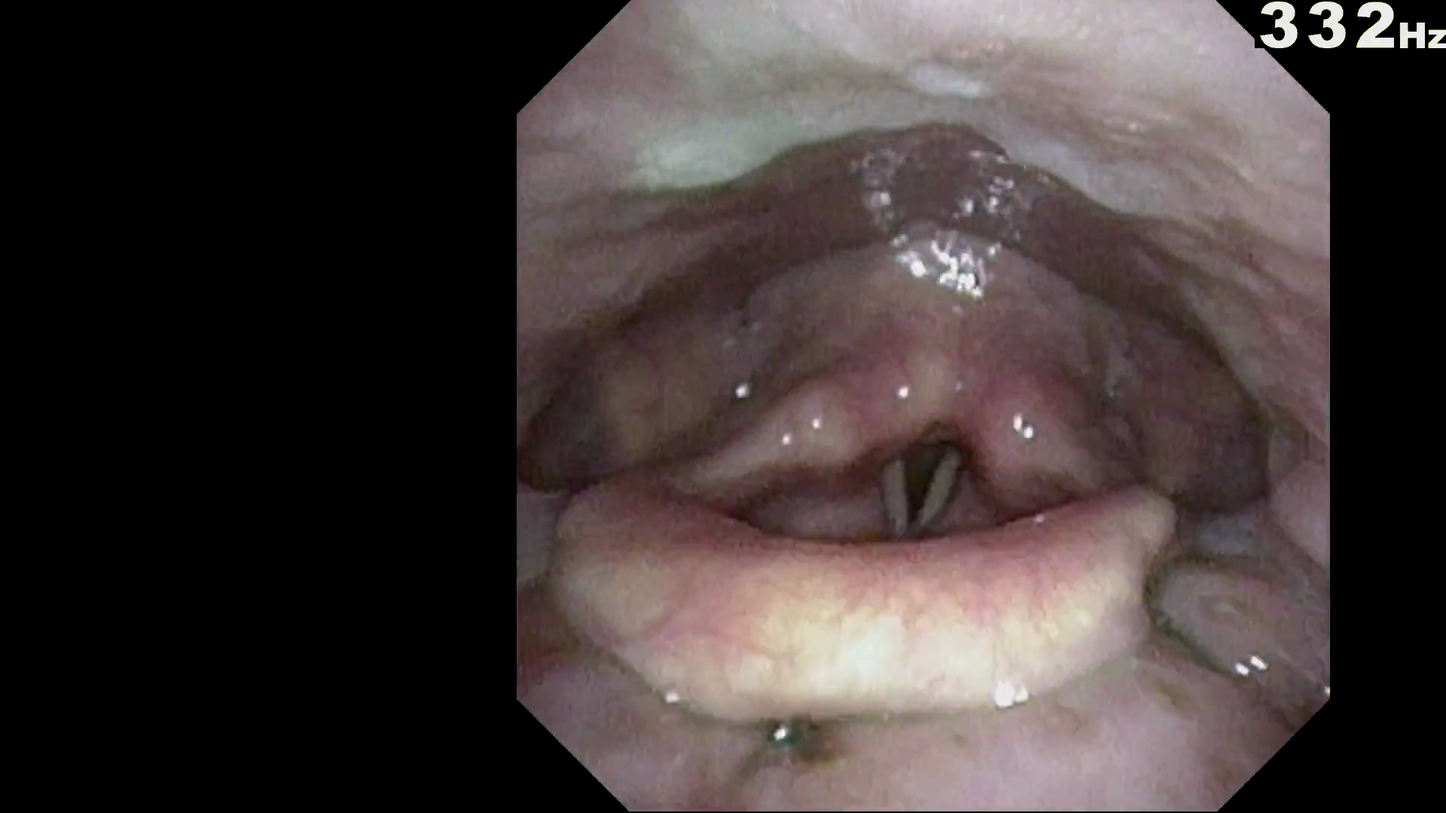epiglottis: (594, 417, 1206, 577)
